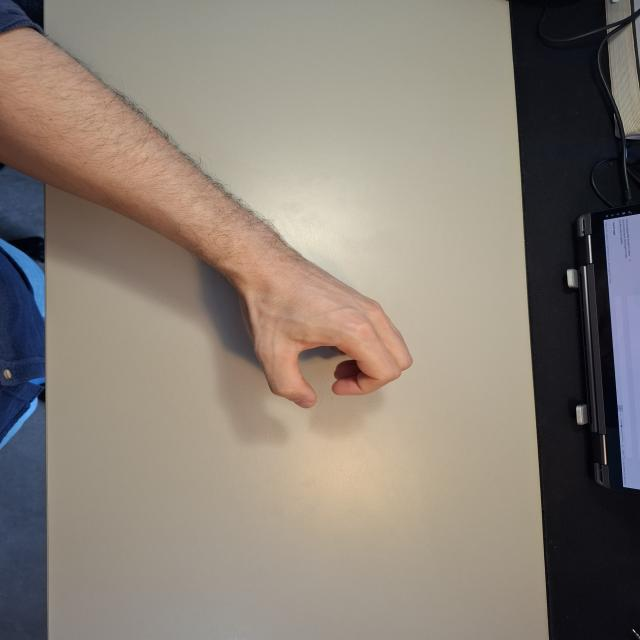glove_off: (227, 247, 416, 410)
